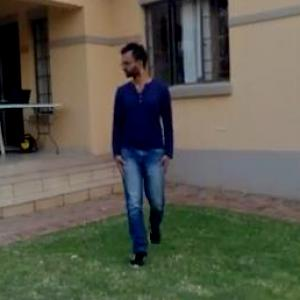follow: (107, 36, 173, 267)
